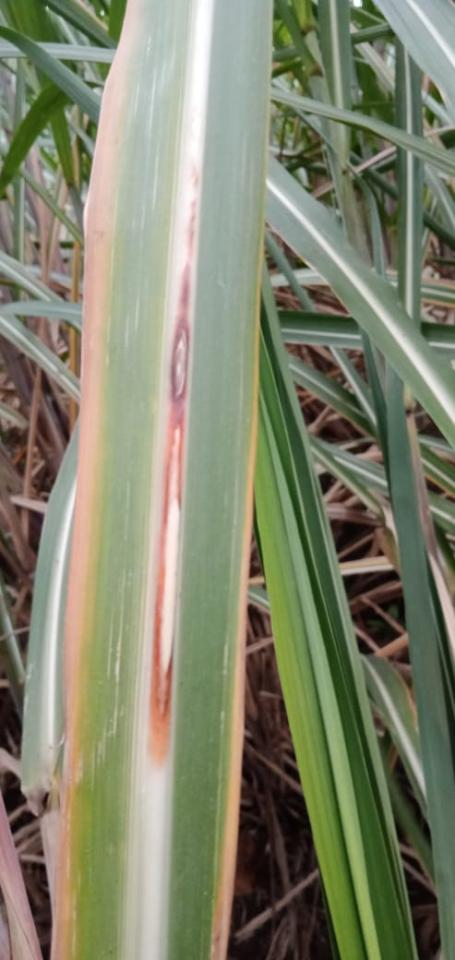RedRot: (136, 169, 202, 776)
Yellow: (50, 0, 150, 959), (209, 234, 261, 959)
